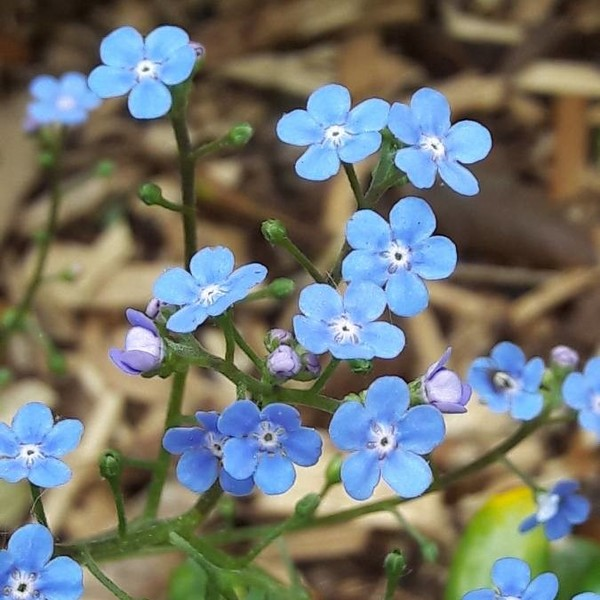obstacle: (48, 24, 576, 489)
